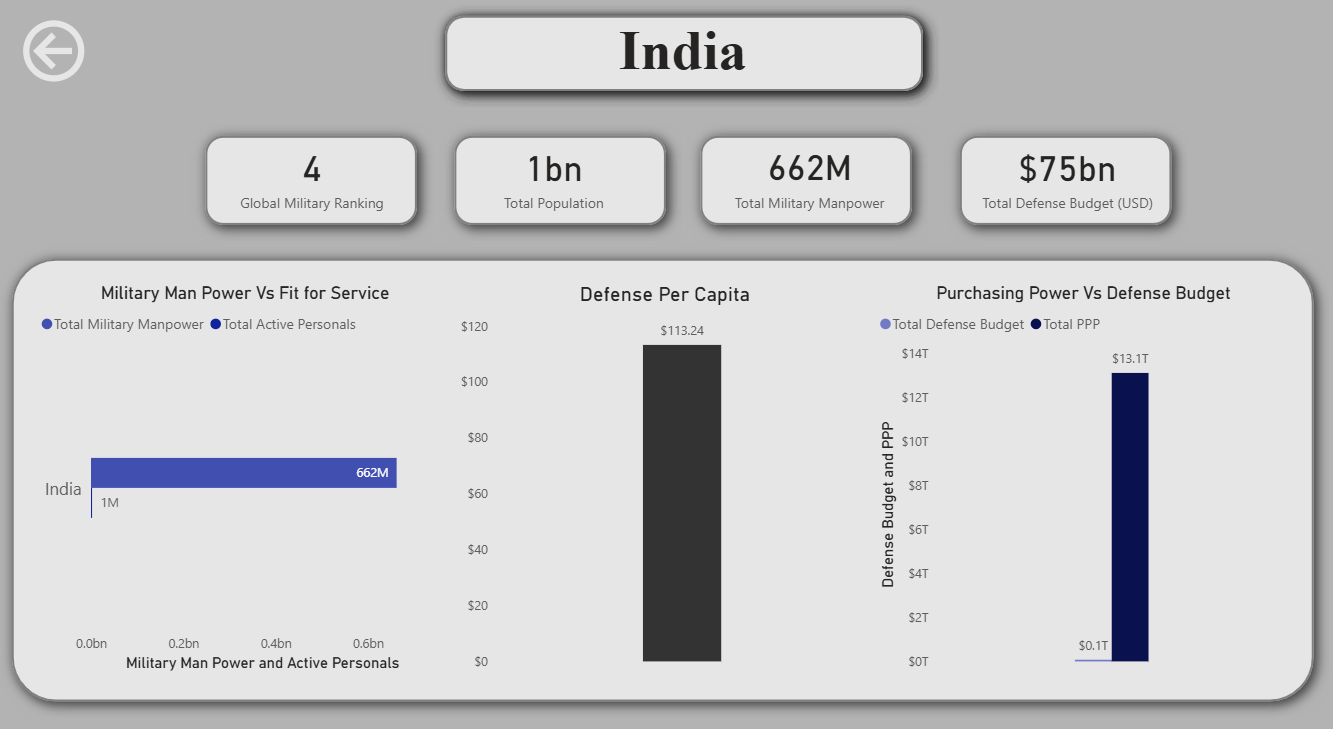

This screenshot's page, from the dashboard's own definition file:
{"tool":"powerbi","page":{"name":"Country Strategic Profile","canvas":[1280,720],"ordinal":1},"visuals":[{"type":"actionButton","box":[20,13.3,70,71.7],"z":0},{"type":"group","id":"g1","title":"Background","box":[0.6,0,1270,683.3],"z":1000},{"type":"card","fields":{"Values":["Imp_Measures.Total Population"]},"box":[431.5,115.1,199.2,100.6],"z":2000},{"type":"card","fields":{"Values":["Imp_Measures.Total Military Manpower"]},"box":[673.7,115.7,200.6,100.3],"z":3000},{"type":"shape","title":"kpi1_bg","box":[421.7,114.5,231.7,115],"z":4000,"group":"g1"},{"type":"card","fields":{"Values":["Imp_Measures.Total Defense Budget"]},"box":[918.2,115.1,203.3,100.6],"z":4000},{"type":"clusteredBarChart","title":"Military Man Power Vs Fit for Service ","fields":{"Category":["global_military_expenditure.country"],"Y":["Imp_Measures.Total Military Manpower","Imp_Measures.Total Active Personals"]},"box":[37.2,268.3,400,375],"z":5000},{"type":"card","fields":{"Values":["Imp_Measures.Country Selected"]},"box":[408.3,0,490,85],"z":6000},{"type":"shape","title":"kpi2_bg","box":[656.7,114.5,231.7,115],"z":6000,"group":"g1"},{"type":"shape","title":"kpi3_bg","box":[903.4,114.5,231.7,115],"z":7000,"group":"g1"},{"type":"clusteredColumnChart","title":"Defense Per Capita","fields":{"Category":["global_military_expenditure.country"],"Y":["Imp_Measures.defense per capita"]},"box":[437.2,268.3,400,375],"z":7000},{"type":"shape","title":"kpi4_bg","box":[185,114.5,231.7,115],"z":7500,"group":"g1"},{"type":"card","fields":{"Values":["Sum(global_military_expenditure.rank)"]},"box":[201.7,116.1,198.3,101.7],"z":8000},{"type":"shape","title":"Plot_bg","box":[0.6,231.7,1270,451.7],"z":8000,"group":"g1"},{"type":"shape","title":"Title_bg","box":[413.4,0,485,101.7],"z":8500,"group":"g1"},{"type":"clusteredColumnChart","title":"Purchasing Power Vs Defense Budget","fields":{"Category":["global_military_expenditure.country"],"Y":["Imp_Measures.Total Defense Budget","Imp_Measures.Total PPP"]},"box":[835.6,268.3,400,375],"z":9000}]}

Visuals, with their boxes in screenshot pixels (x1, y1, x2, y2), scaled from the page's 1280x720 canvas onto the 1333x729 screenshot:
actionButton: bbox=(21, 13, 94, 86)
"Background" group: bbox=(1, 0, 1323, 692)
card - Imp_Measures.Total Population: bbox=(449, 117, 657, 218)
card - Imp_Measures.Total Military Manpower: bbox=(702, 117, 911, 219)
"kpi1_bg" shape: bbox=(439, 116, 680, 232)
card - Imp_Measures.Total Defense Budget: bbox=(956, 117, 1168, 218)
"Military Man Power Vs Fit for Service " clusteredBarChart: bbox=(39, 272, 455, 651)
card - Imp_Measures.Country Selected: bbox=(425, 0, 935, 86)
"kpi2_bg" shape: bbox=(684, 116, 925, 232)
"kpi3_bg" shape: bbox=(941, 116, 1182, 232)
"Defense Per Capita" clusteredColumnChart: bbox=(455, 272, 872, 651)
"kpi4_bg" shape: bbox=(193, 116, 434, 232)
card - Sum(global_military_expenditure.rank): bbox=(210, 118, 417, 221)
"Plot_bg" shape: bbox=(1, 235, 1323, 692)
"Title_bg" shape: bbox=(431, 0, 936, 103)
"Purchasing Power Vs Defense Budget" clusteredColumnChart: bbox=(870, 272, 1287, 651)
